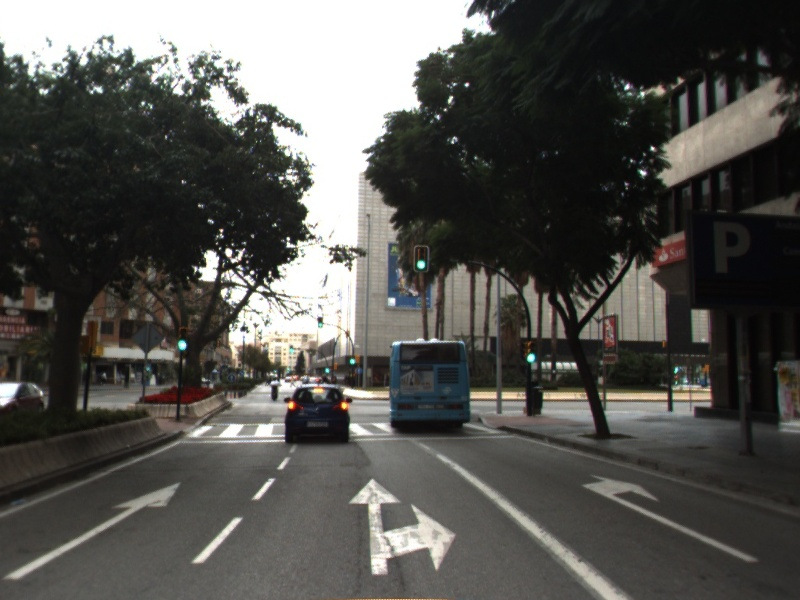RIGHT: (580, 473, 761, 563)
STRAIGHT: (2, 480, 183, 582)
STRAIGHT_RIGHT: (346, 476, 459, 577)
